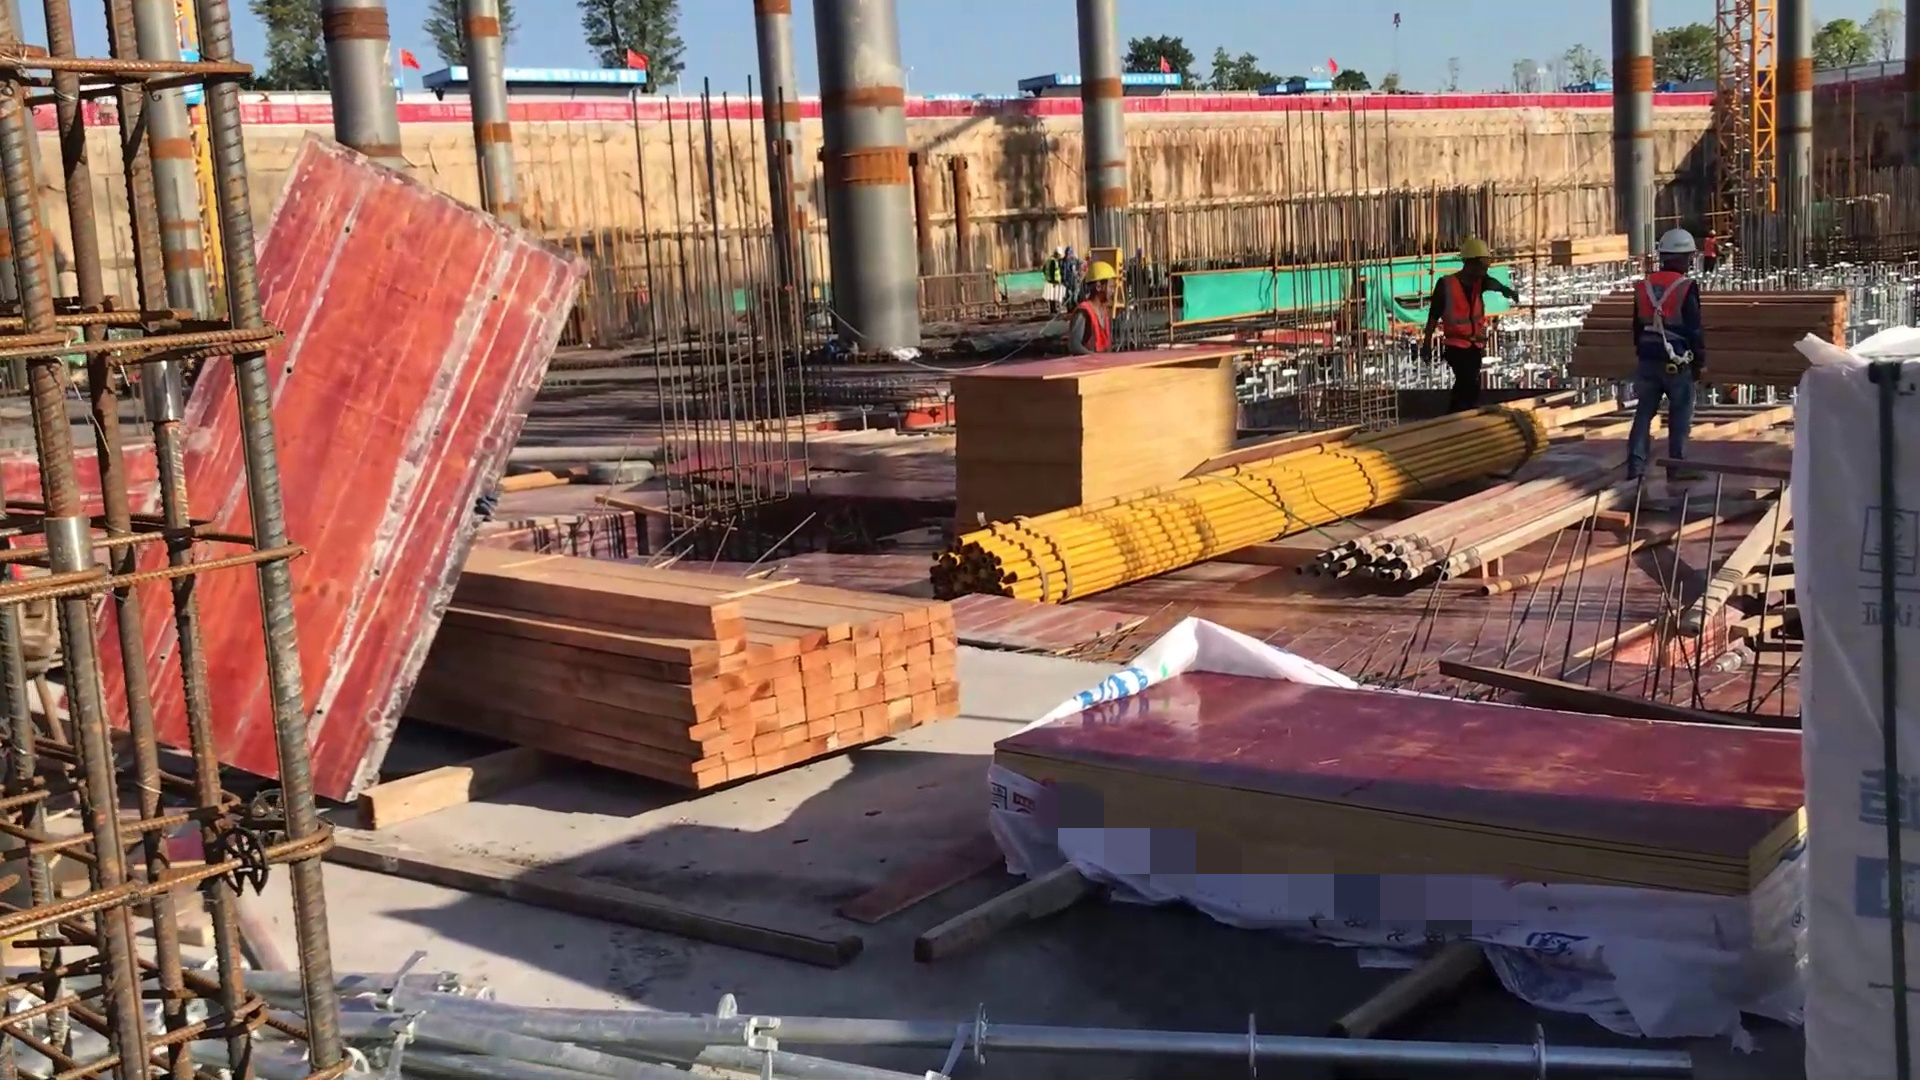helmet: (1644, 220, 1701, 268), (1079, 258, 1121, 295), (1457, 234, 1494, 270)
person: (1614, 218, 1719, 488), (1418, 230, 1522, 411), (1065, 254, 1124, 366)
vest: (1628, 265, 1701, 386), (1431, 270, 1500, 363), (1069, 293, 1117, 355)
